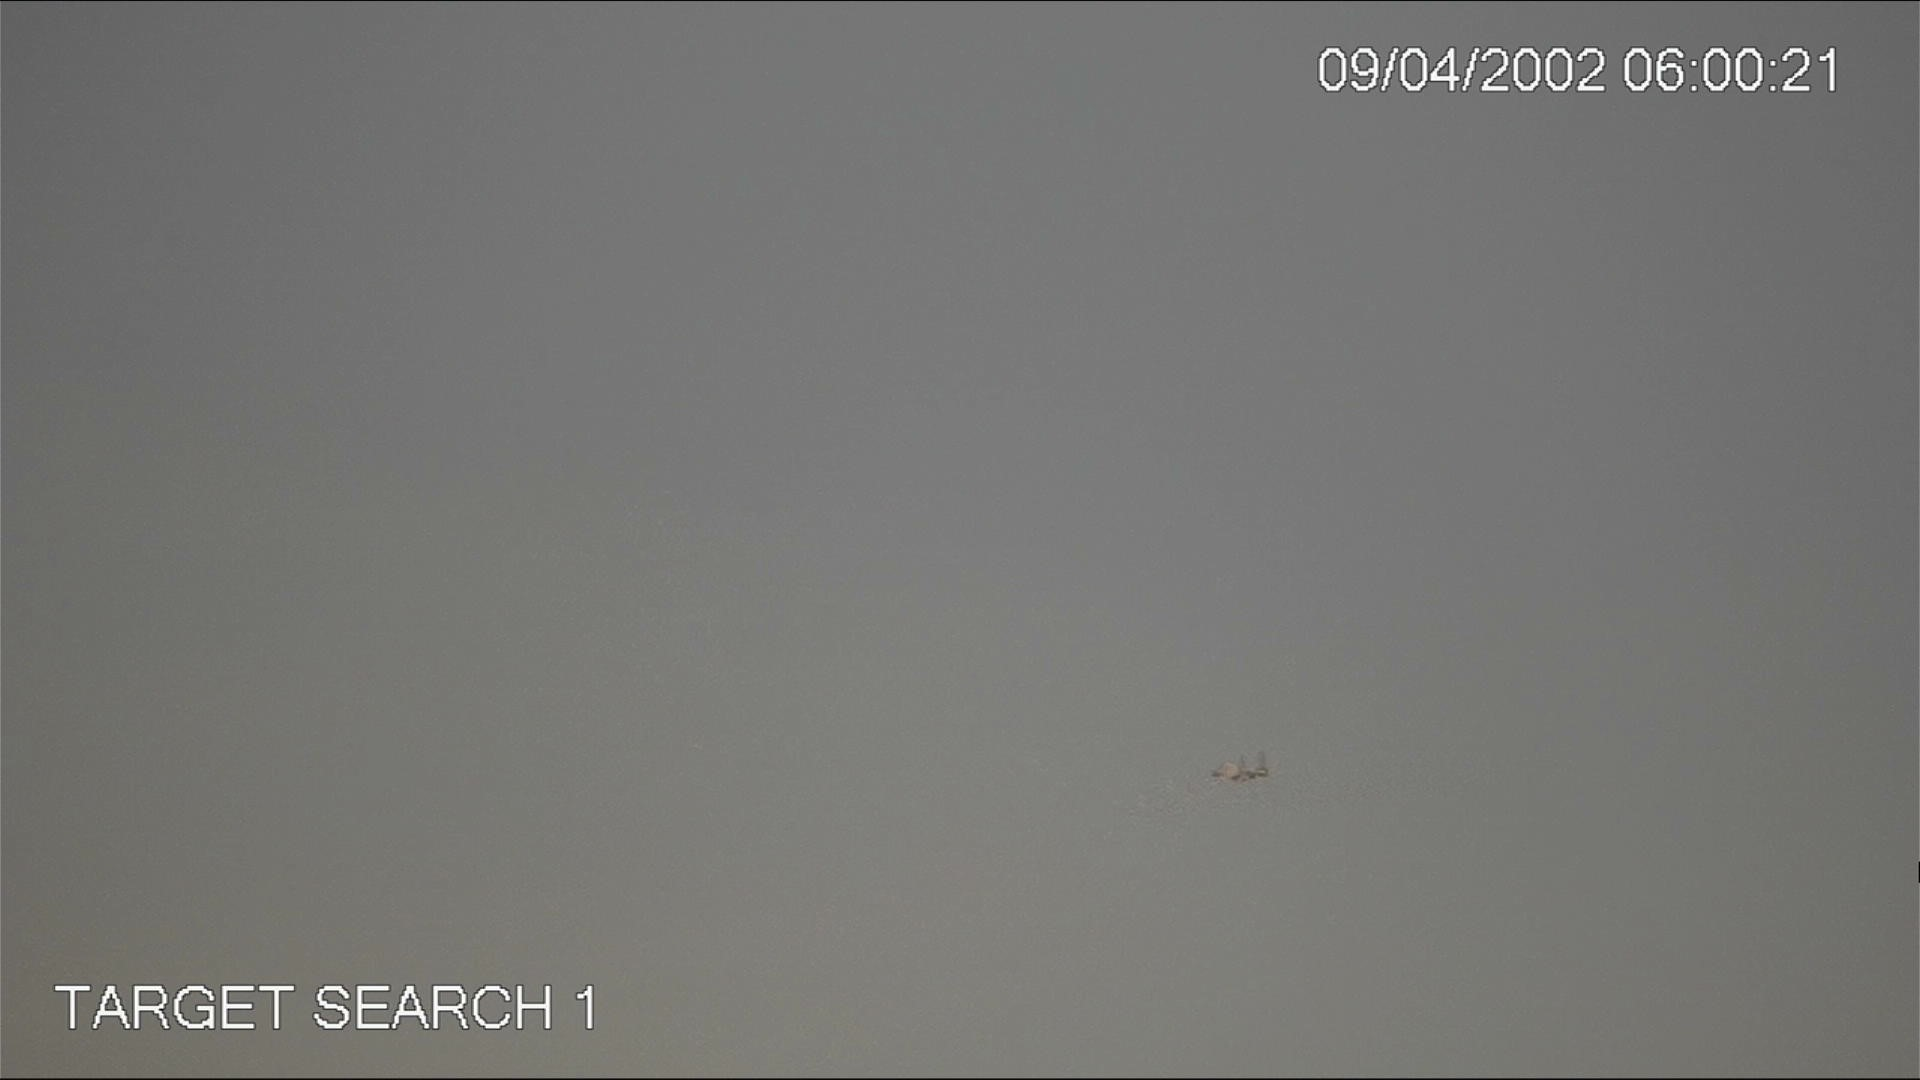SU_30: (1204, 760, 1275, 787)
